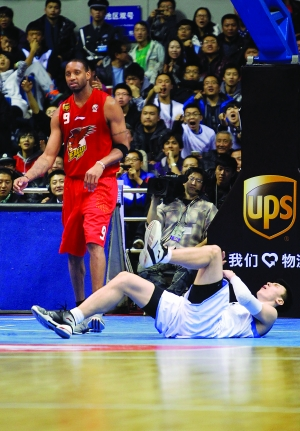10+: (1, 4, 300, 285)
down: (27, 217, 289, 343)
